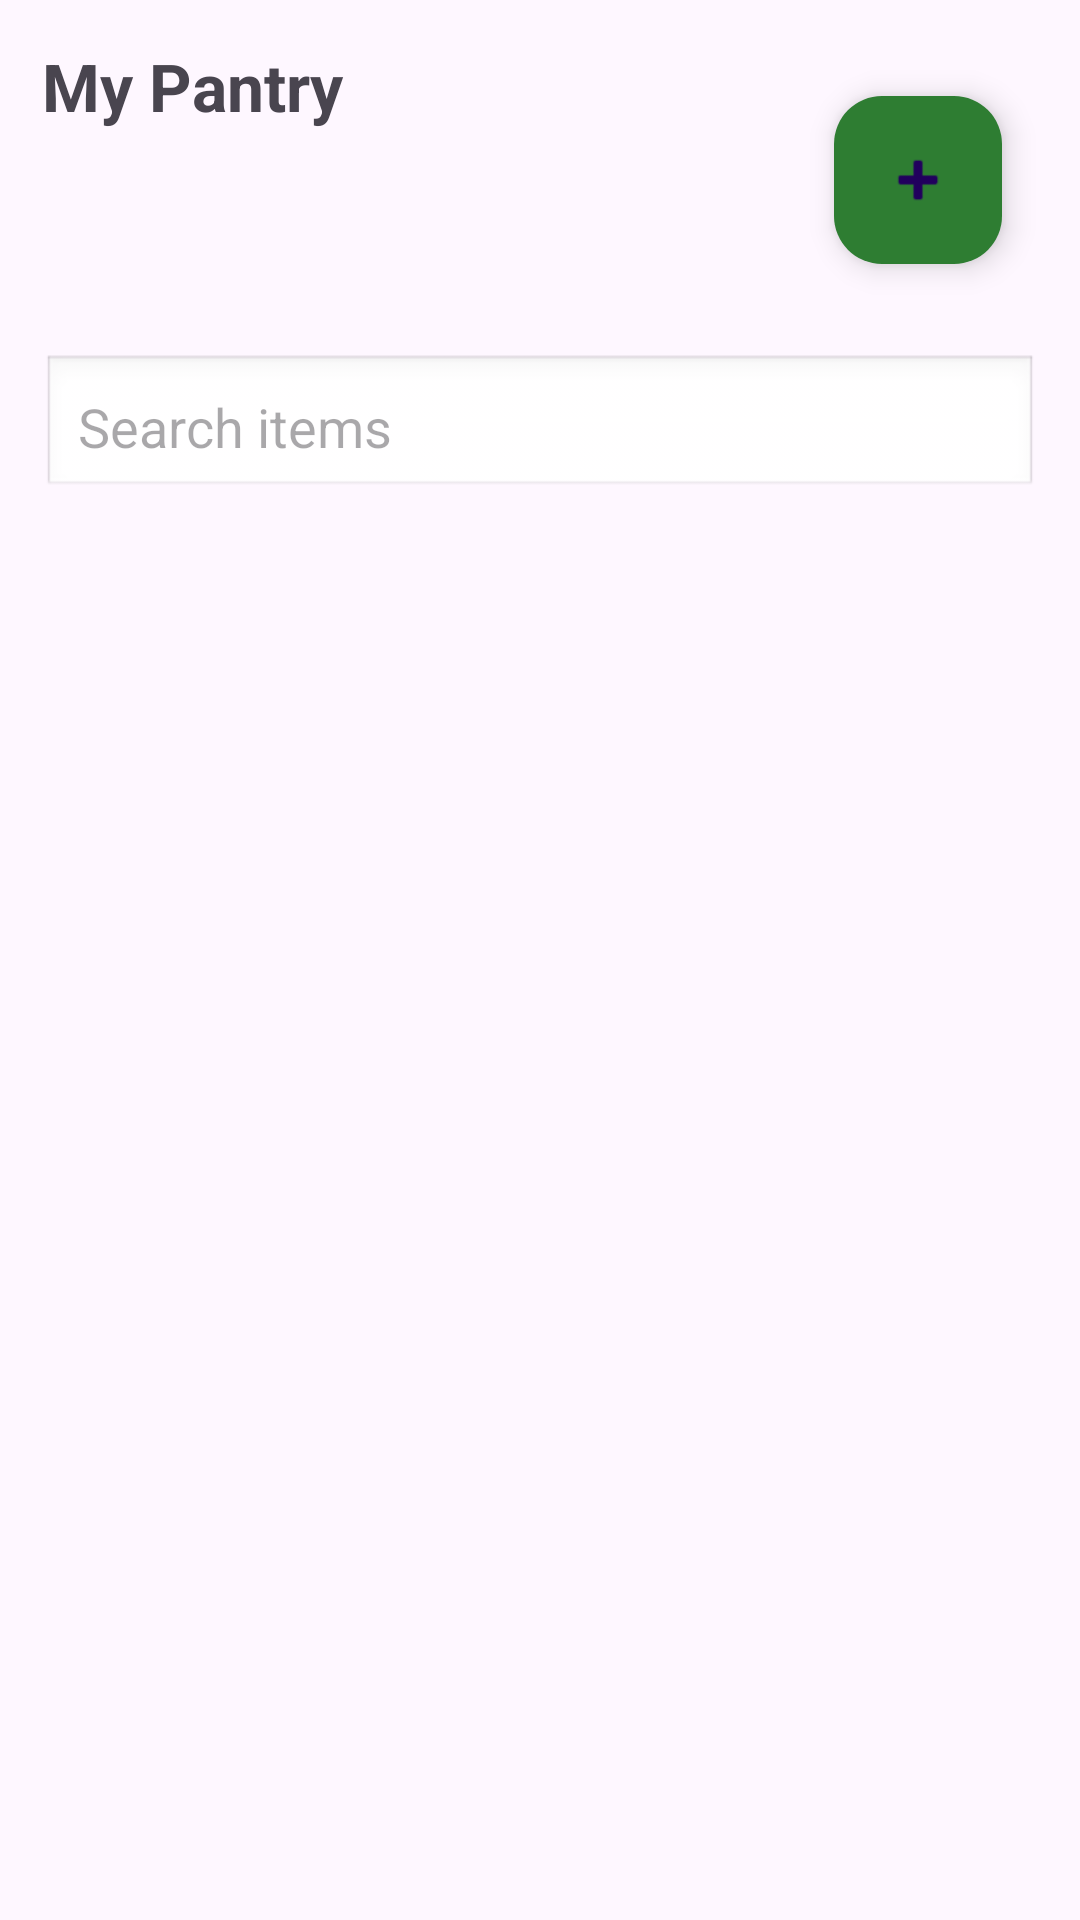

Named icons in this screenshot (1080w x 1920h) and their centers, point (x, y):
Add item: point (919, 181)
